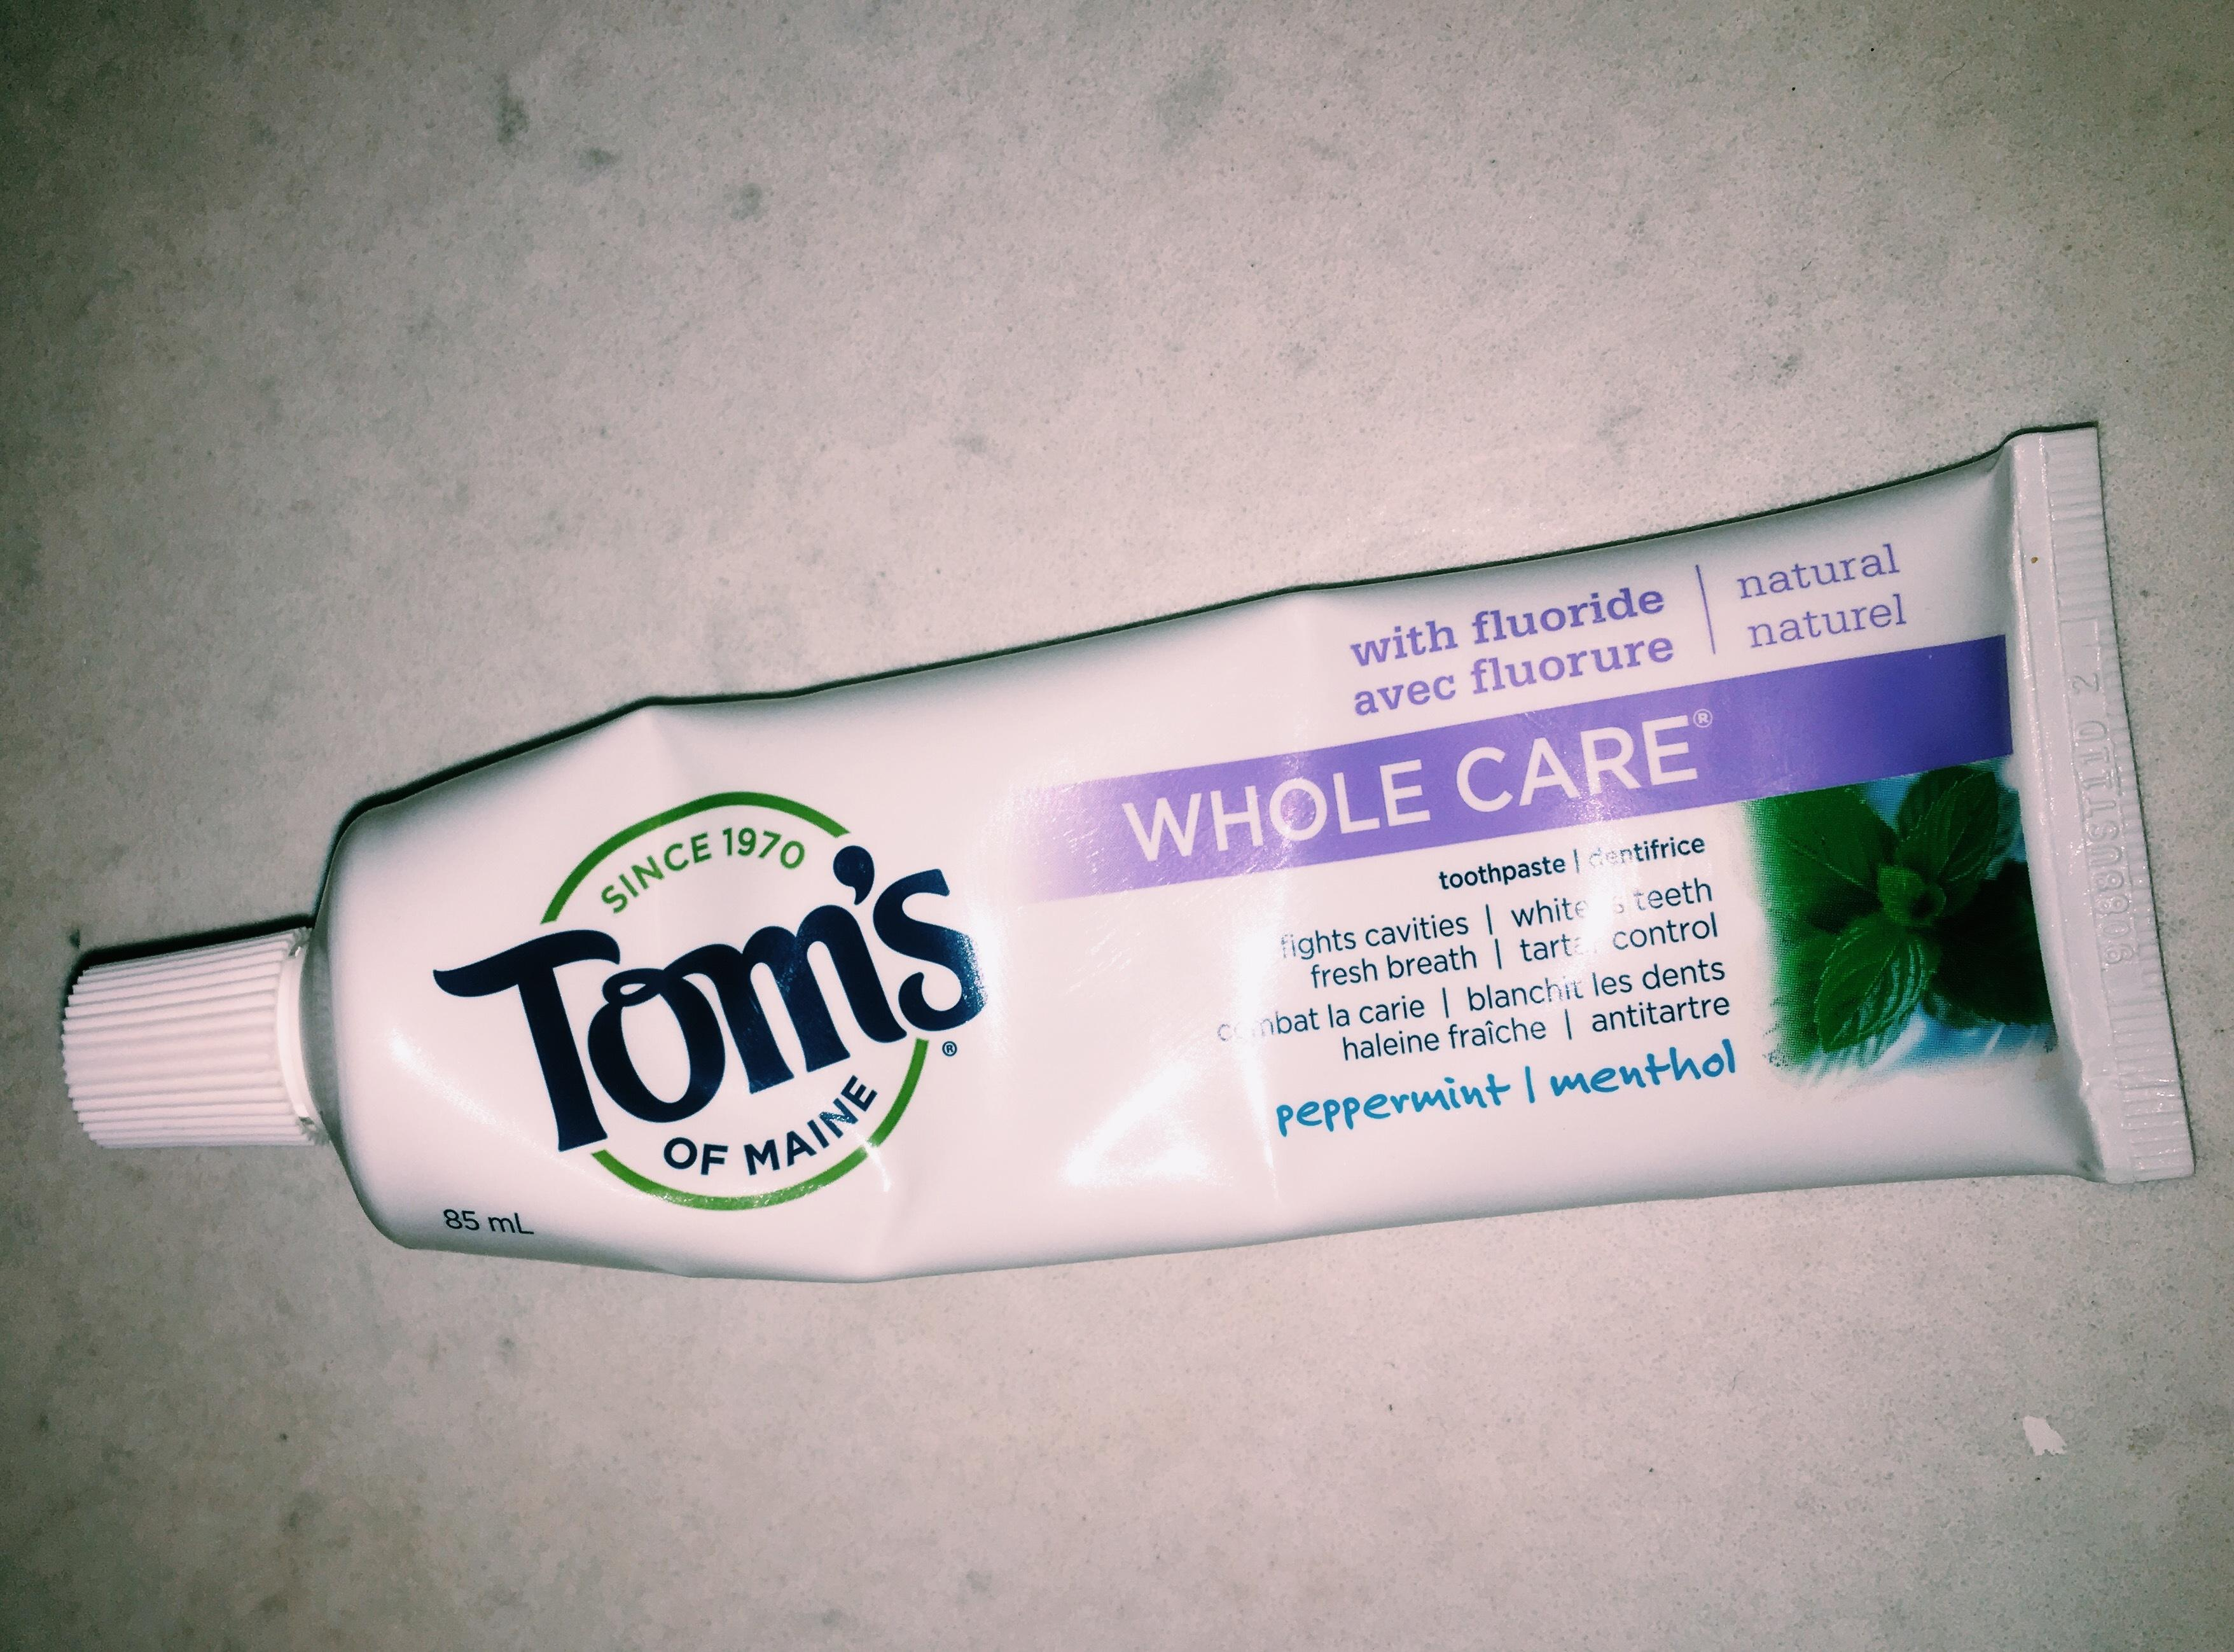toothpaste: (36, 399, 2227, 1288)
